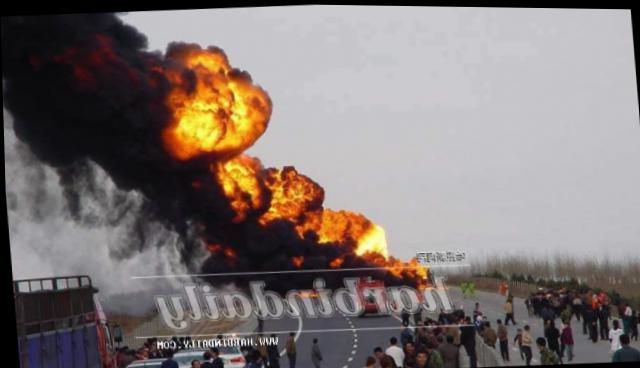fire: (120, 26, 441, 301)
